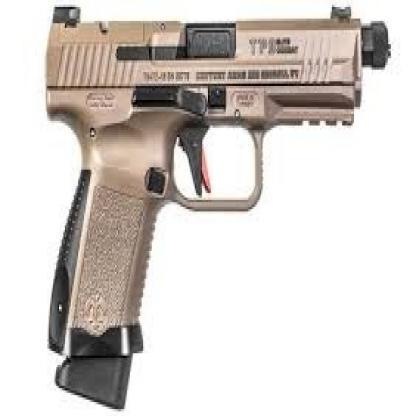Pistol: (39, 3, 390, 405)
